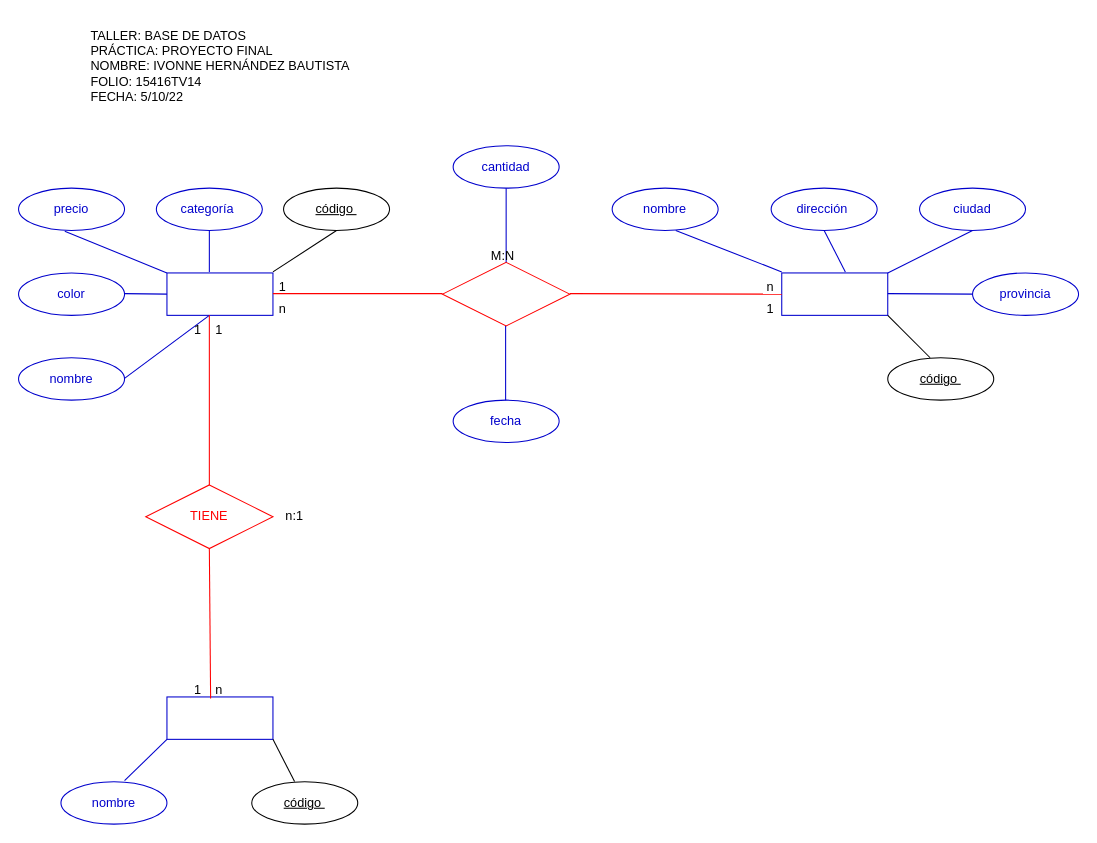
Image size: 1097x843. Some labels were removed from this diagram. Here are the shapes that lost their labels. From the top down, the centre of each, then its label:
At pixel 219 293: "PIEZAS".
At pixel 505 293: "SUMINISTRA".
At pixel 834 293: "PROVEEDORES".
At pixel 219 717: "CATEGORÍAS".
